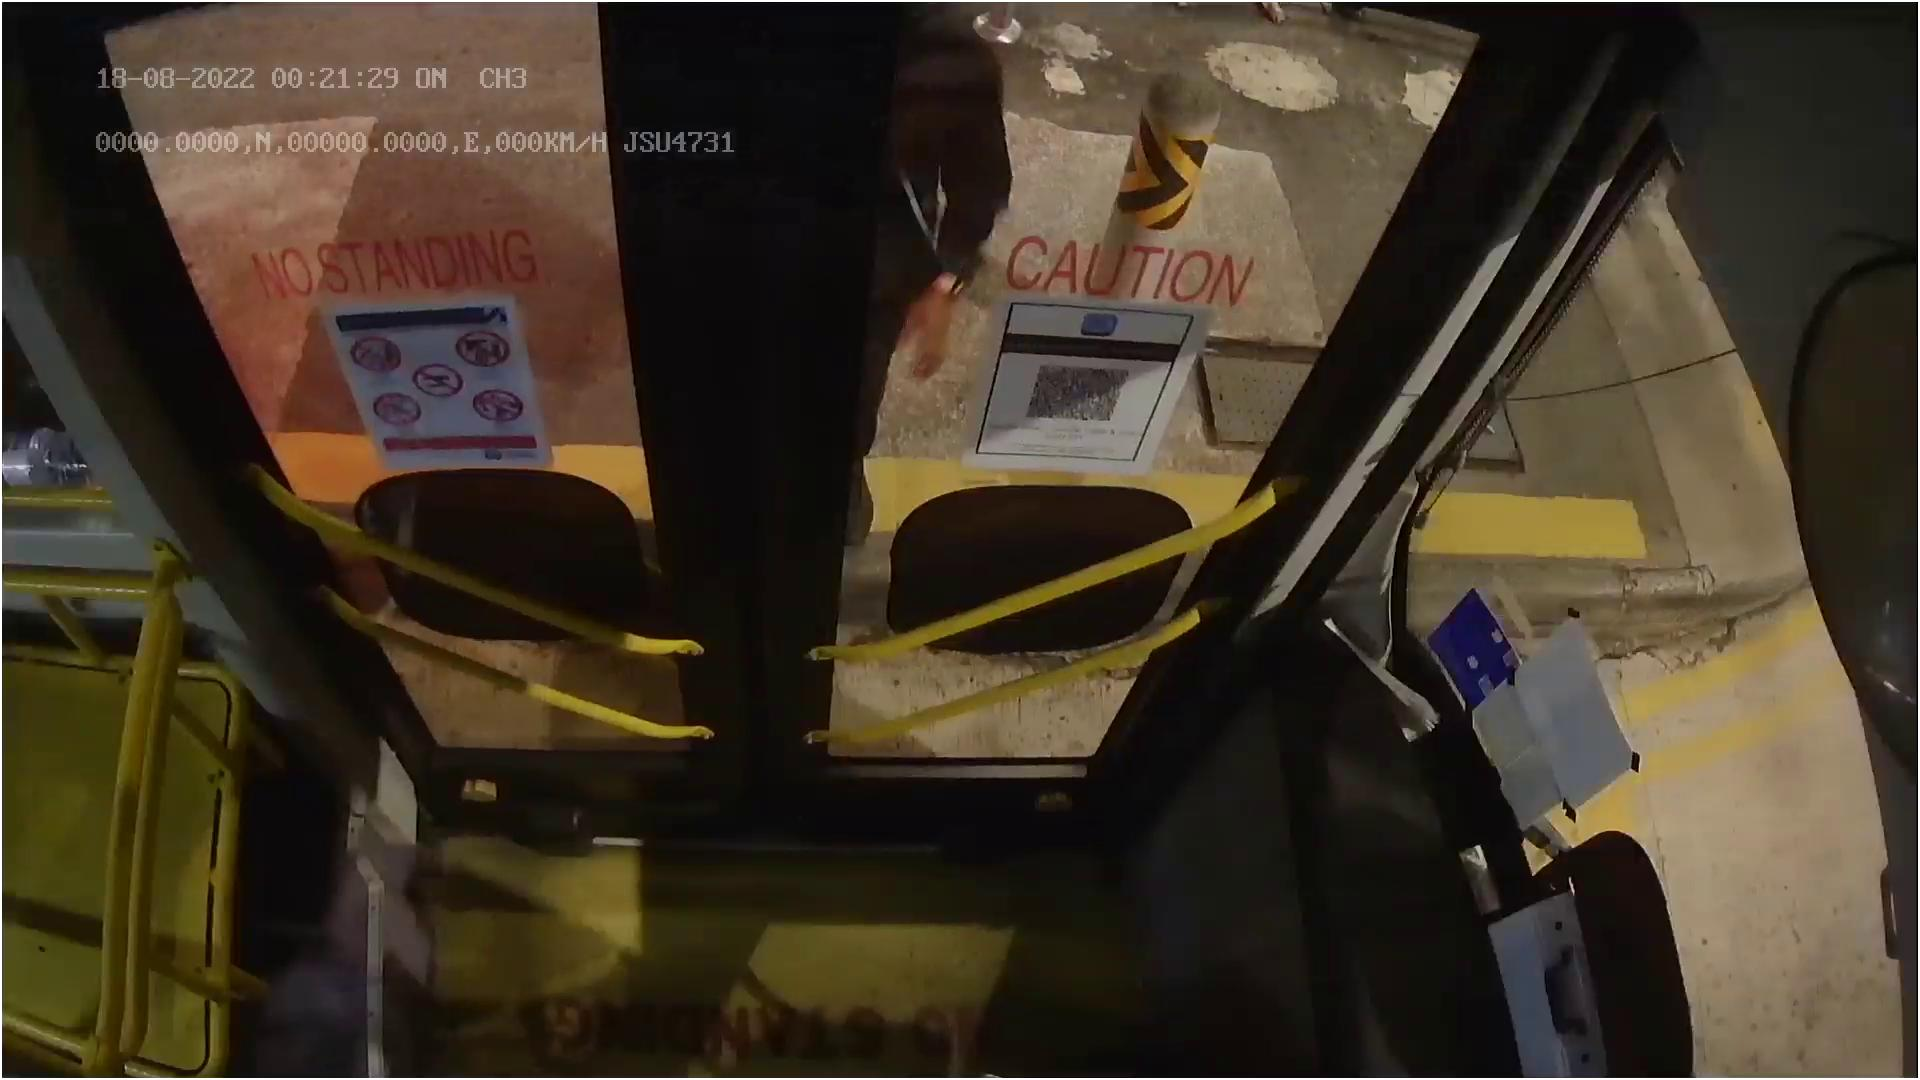close: (131, 0, 1453, 166)
